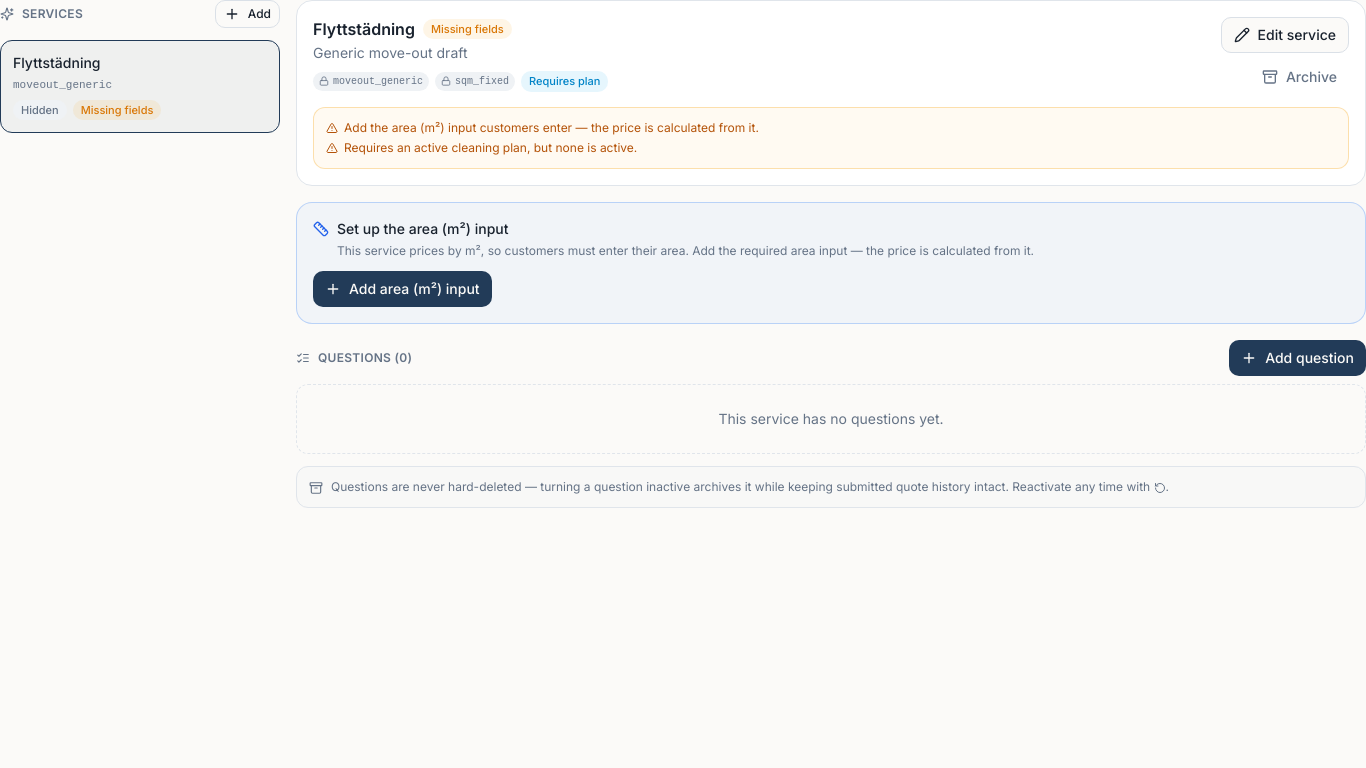
it: ServicesFieldsEditor — GPM-8 sqm_fixed enable/public guard alignment › drops the stale 'engine does not implement' enable-block for an incomplete sqm_fixed service and guides setup instead
Click the button "Edit service" at x=1285, y=35, box [1221,17,1349,53]
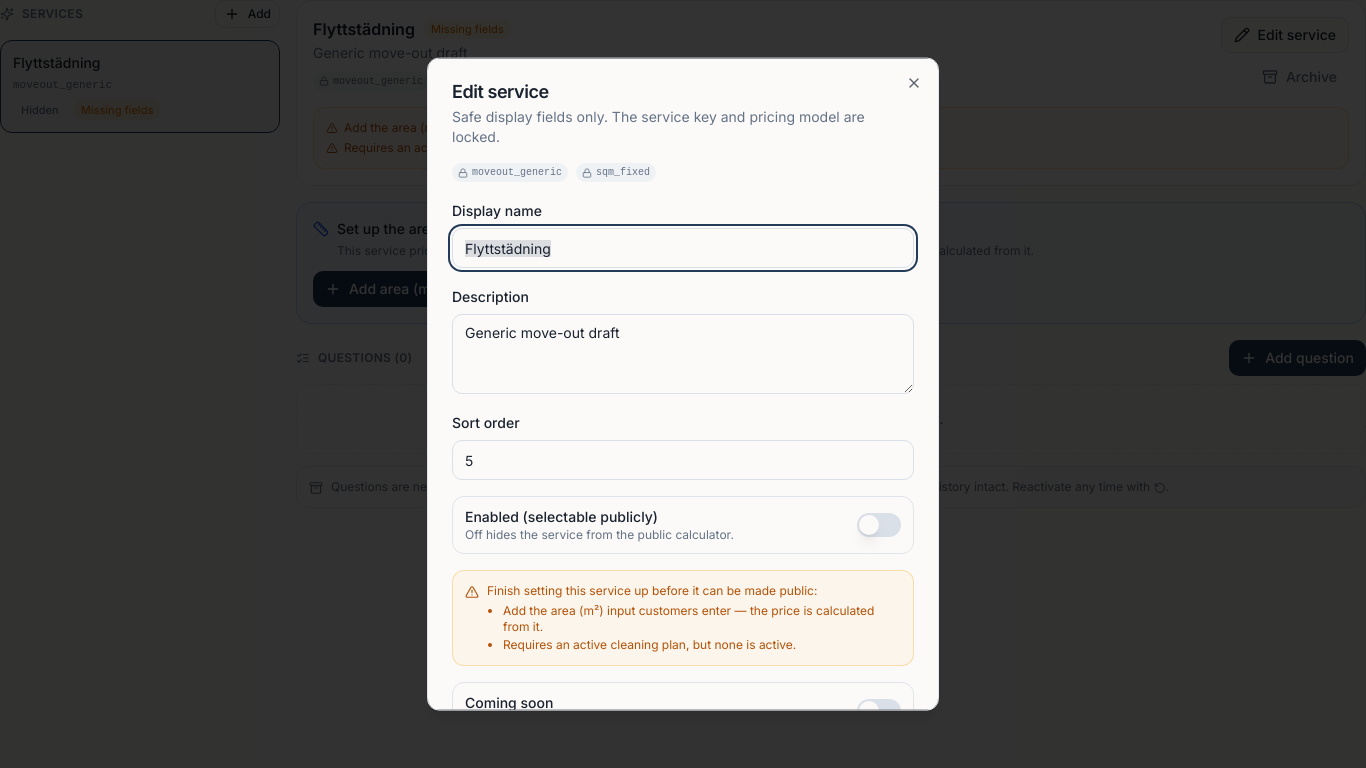
Now the text "Finish setting this service up before it can be made public:" is shown, box [487,583,817,598]
Now the list item "Requires an active cleaning plan, but none is active." is shown, box [503,637,796,652]
Now the switch named "Service enabled" is disabled, box [857,513,901,537]
